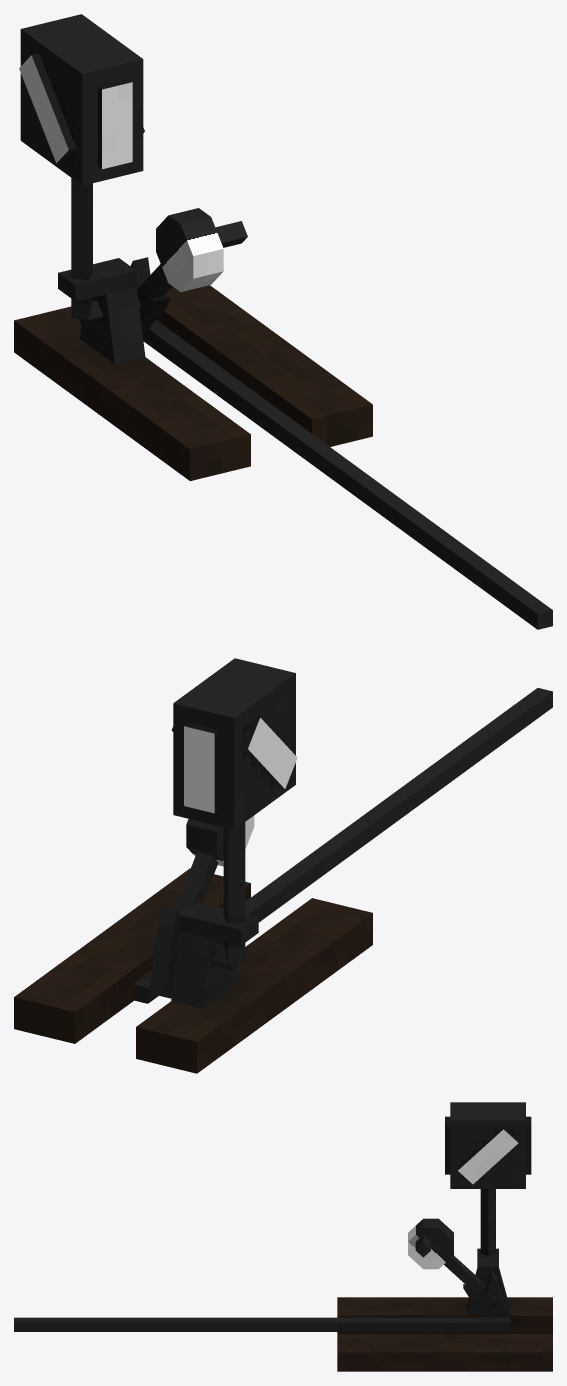
File: switch_right_on.obj
The picture shows the model from 3 angles, top to bottom: view 1: azimuth 30°, elevation 25°; view 2: azimuth 150°, elevation 25°; view 3: azimuth 270°, elevation 25°; orthographic projection. The views are drawn at different scales.
Visible parts, largest first — view 1: base_RAIL_BASE.001; view 2: base_RAIL_BASE.001; view 3: base_RAIL_BASE.001.
Boxes of the visible parts, <box> form: base_RAIL_BASE.001: <box>14,14,552,629</box>; base_RAIL_BASE.001: <box>14,658,552,1073</box>; base_RAIL_BASE.001: <box>14,1102,552,1371</box>.
Bounding box in the file's own units: 0.8438 × 1.34 × 3.12.
Materials: 1 (1 with a texture image).
